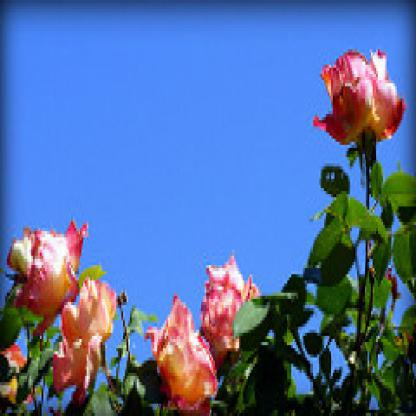Rose-Mawar: (11, 195, 256, 414), (311, 14, 407, 165)
